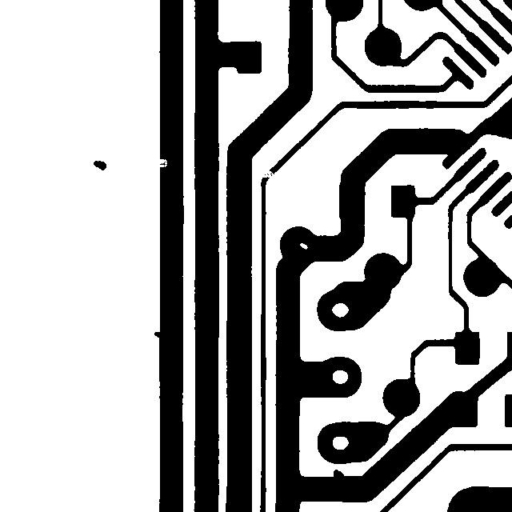copper: (86, 153, 114, 178)
mousebite: (150, 151, 174, 174)
open: (254, 162, 282, 186)
pin-hole: (292, 235, 315, 257)
spur: (326, 462, 351, 486), (146, 324, 171, 347)
